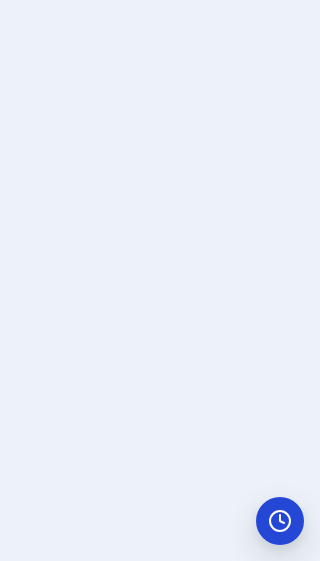
Test: TimeTravelPanel › works without deadline shortcuts
The image size is (320, 561).
What coordinates should you click on to do the following:
click the button named "Viagem no tempo"
I would click on:
 (280, 521)
Its box is [256,497,304,545].
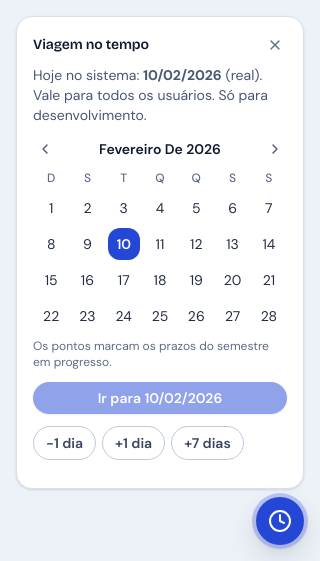
Now the button "+1 dia" is shown, box [102,426,165,460]
